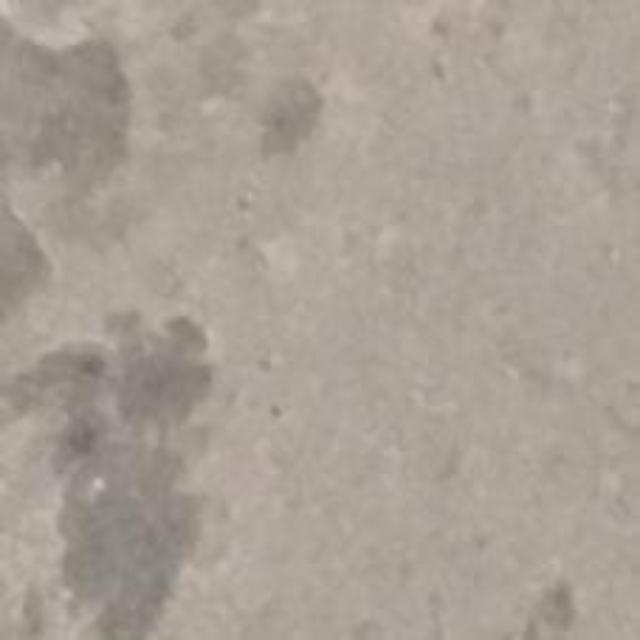peeling plaster: (20, 316, 211, 639)
